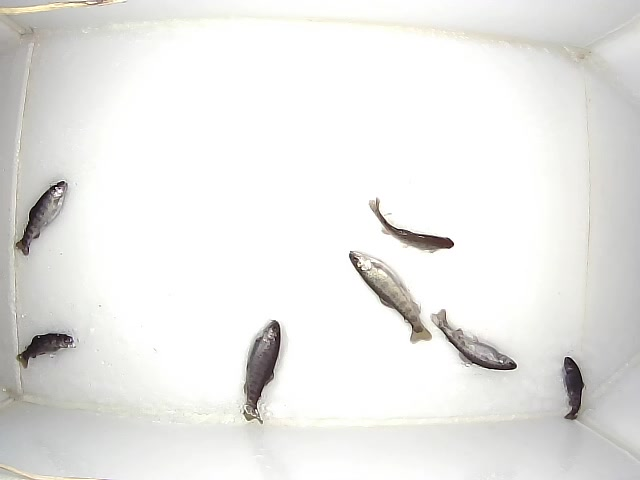fish: (349, 250, 432, 344), (430, 309, 517, 370), (368, 197, 454, 253), (16, 181, 68, 256), (244, 320, 281, 423), (16, 333, 76, 369), (563, 357, 586, 420)
